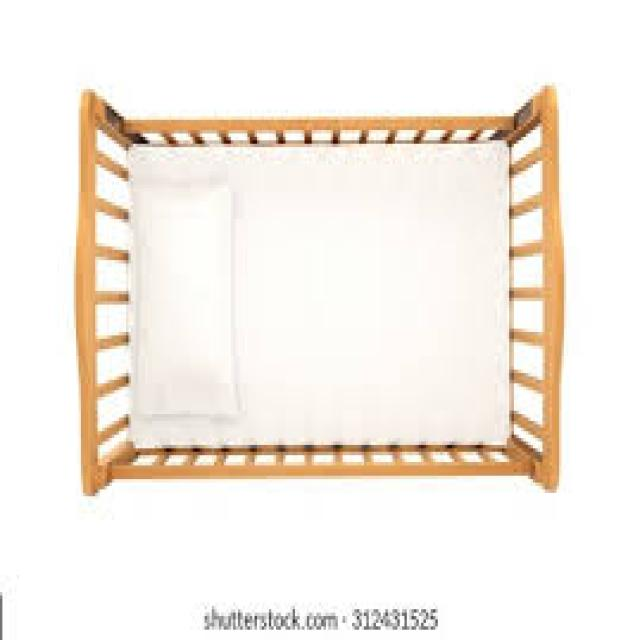crib: (71, 79, 564, 493)
